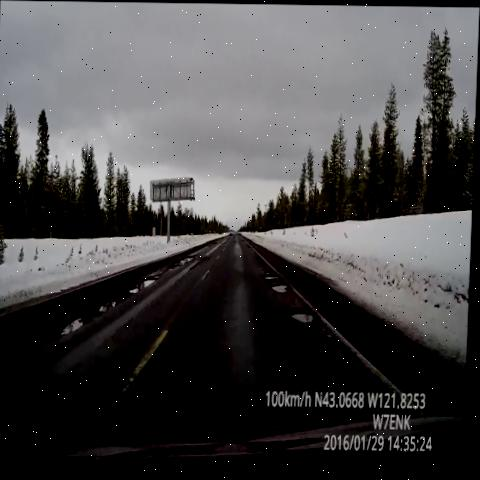pothole: (51, 262, 163, 359), (284, 298, 321, 333), (169, 255, 196, 278), (267, 277, 295, 295), (261, 262, 283, 282), (204, 237, 222, 252)
